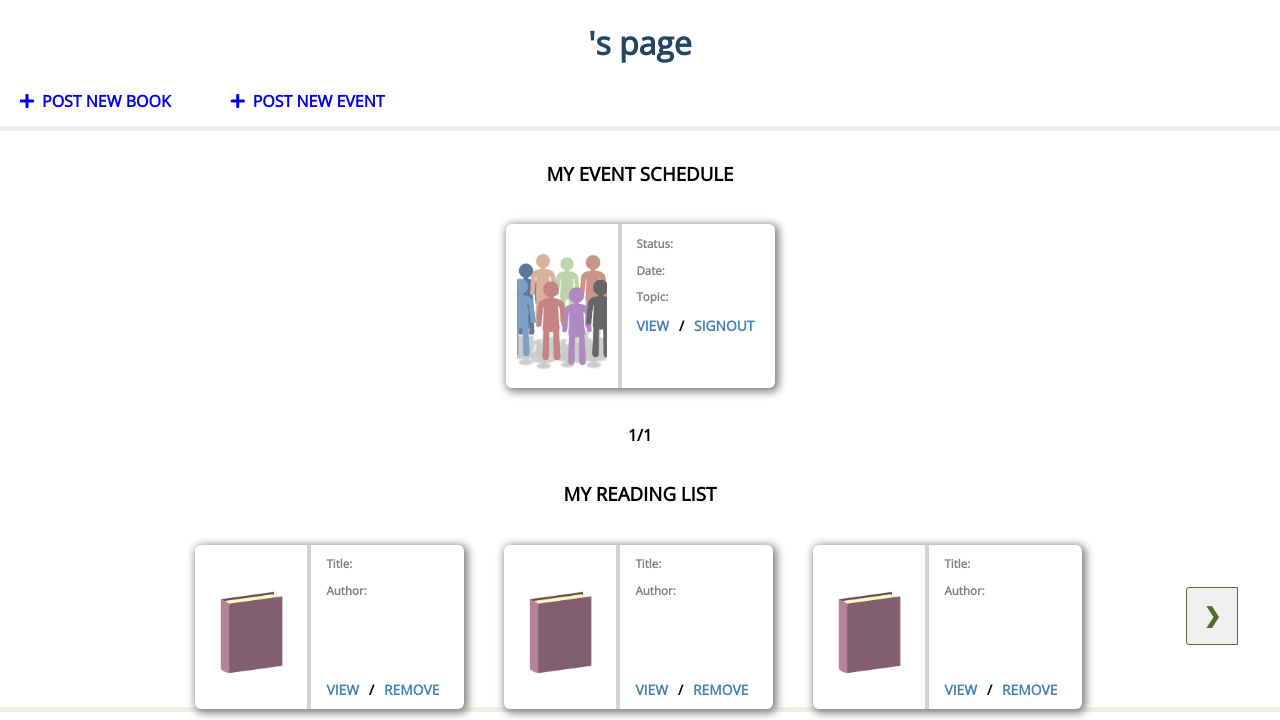
Test case: MyPage component › render previous page of readings list by clicking increase button
Expected: the heading "'s page" is shown, [588,21,692,64]
Click the button with class "next" at (1212, 616), box [1186,587,1238,645]
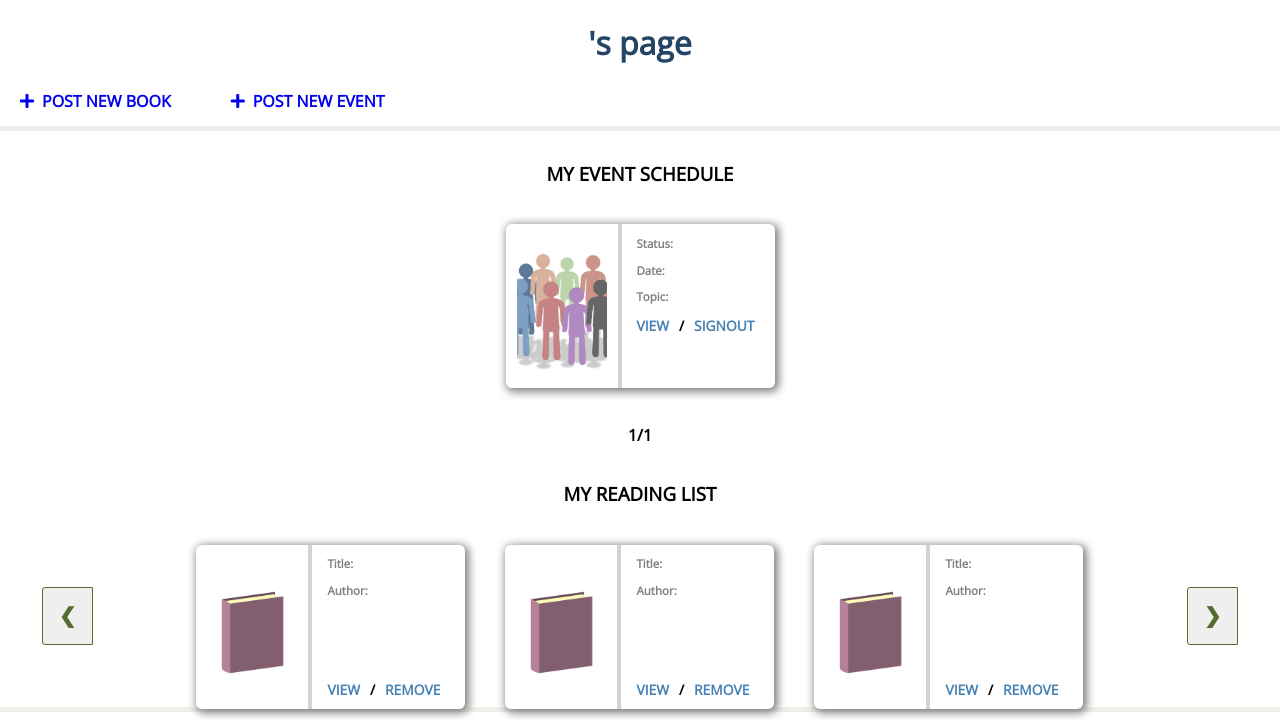
Click the button "❮" at (67, 616), box [42,587,93,645]
(page scrolled)
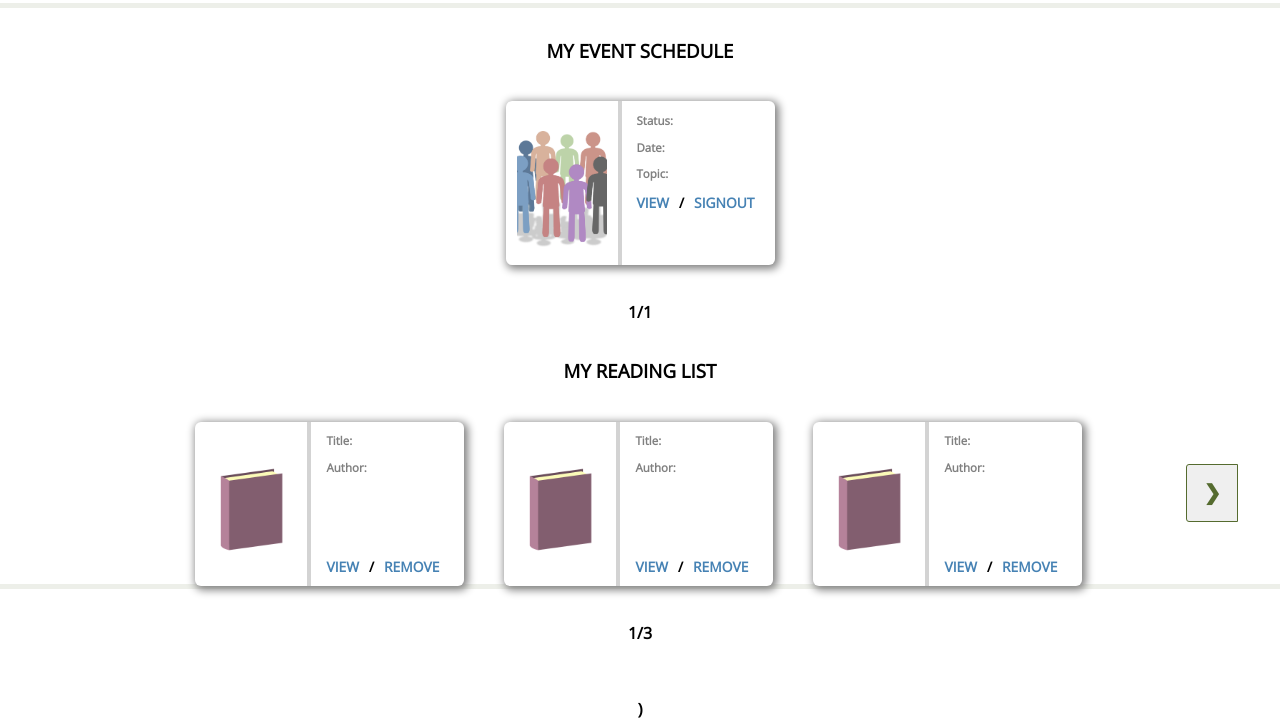
Now the text "1/3" is shown, box [628,622,652,644]
